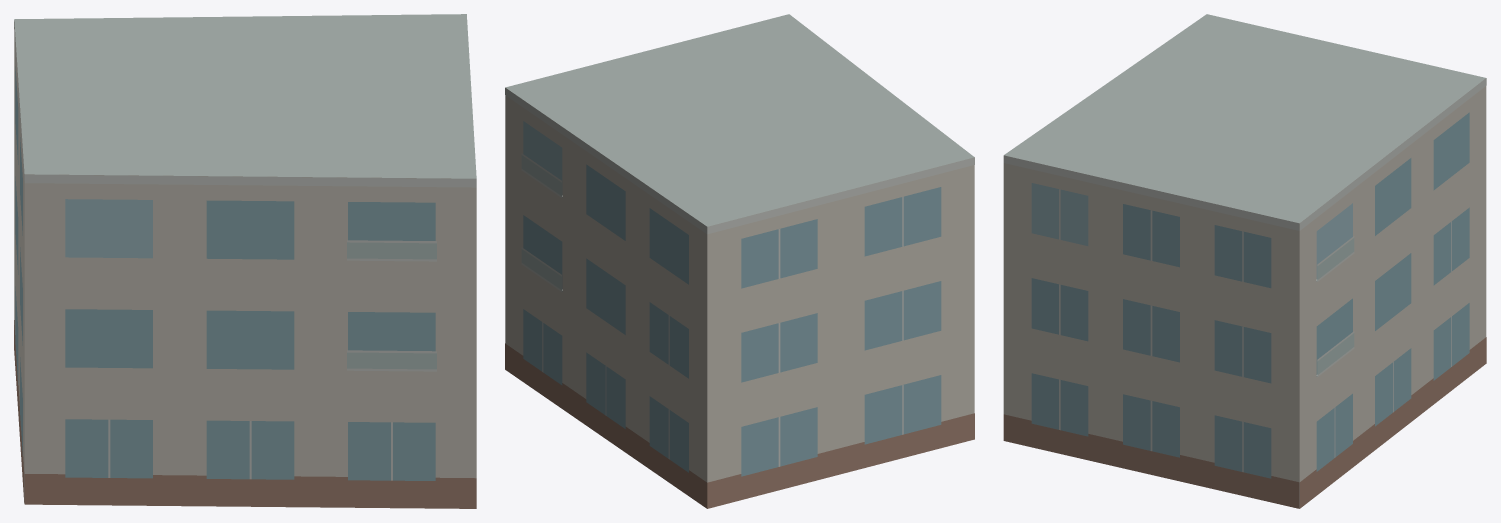
Rendered from survey-upis-32687959.glb.
3 views of the same model, side by side, from view 1: azimuth 30°, elevation 25°; view 2: azimuth 150°, elevation 25°; view 3: azimuth 270°, elevation 25° (orthographic). The views are drawn at different scales.
Visible parts, largest first — view 1: survey-upis-32687959.tmp; view 2: survey-upis-32687959.tmp; view 3: survey-upis-32687959.tmp.
Part boxes in pixels (box(x1,y1,x2,y2)): survey-upis-32687959.tmp: box(14, 14, 476, 508); survey-upis-32687959.tmp: box(505, 14, 974, 508); survey-upis-32687959.tmp: box(1003, 14, 1486, 508).
Size of the model in its own units: 14.32 by 9.1 by 13.95.
